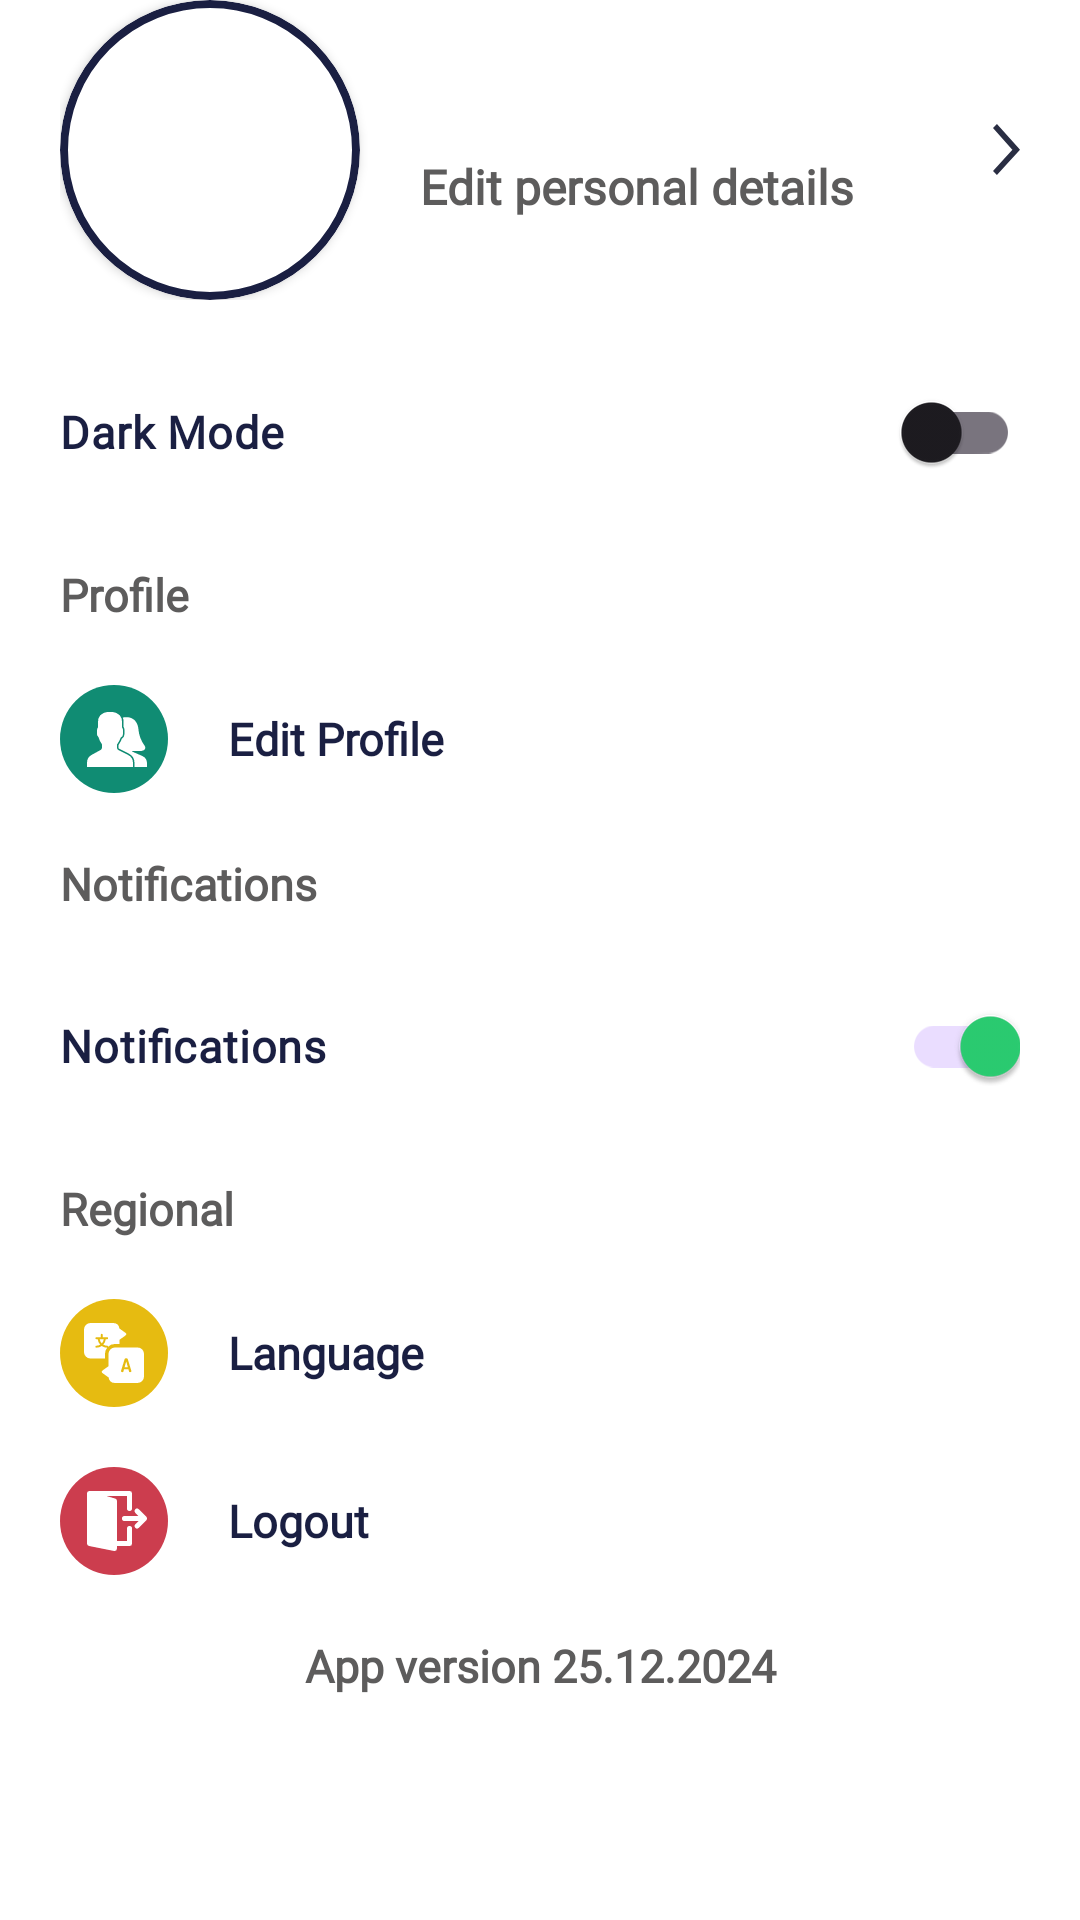

Screen size 1080*1920. Icon name, then its box in pixels as detection(x1, y1, x2, y2):
more: detection(993, 124, 1020, 175)
